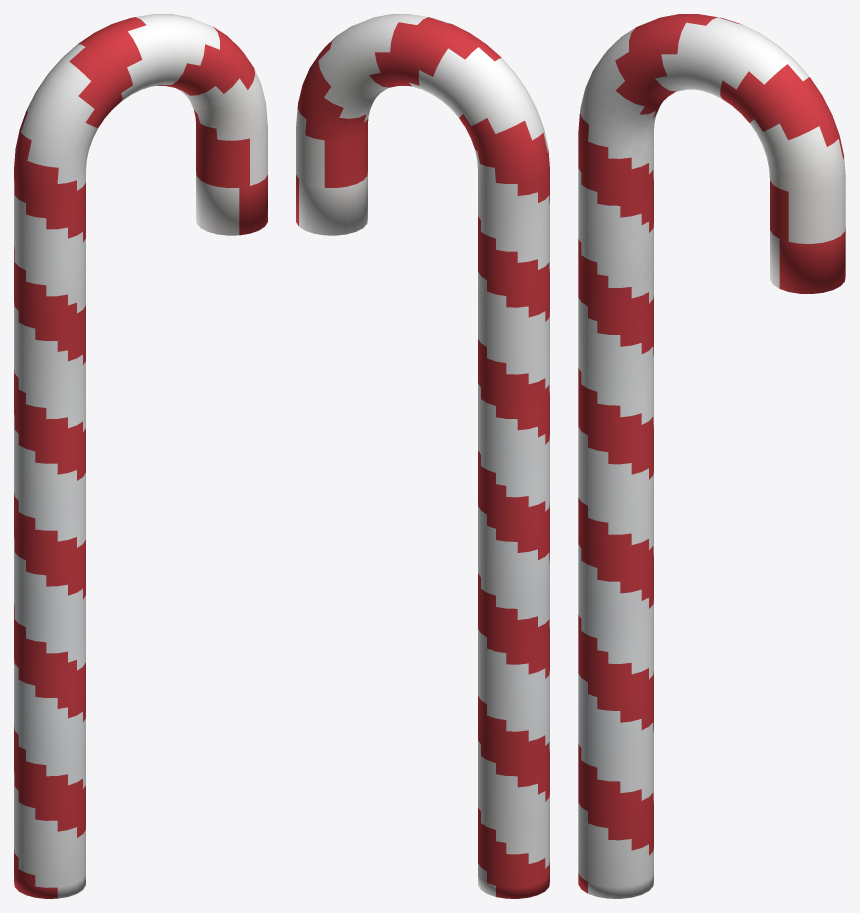
Rendered from frost_candy_cane.glb.
3 renders of one model, left to right at view 1: azimuth 30°, elevation 25°; view 2: azimuth 150°, elevation 25°; view 3: azimuth 330°, elevation 25°, orthographic. The views are drawn at different scales.
Visible parts, largest first — view 1: frost_candy_cane; view 2: frost_candy_cane; view 3: frost_candy_cane.
Part boxes in pixels (<box>): frost_candy_cane: <box>14,14,267,898</box>; frost_candy_cane: <box>296,14,549,898</box>; frost_candy_cane: <box>578,14,845,898</box>.
Bounding box in the file's own units: 9.12 × 30 × 2.33.
